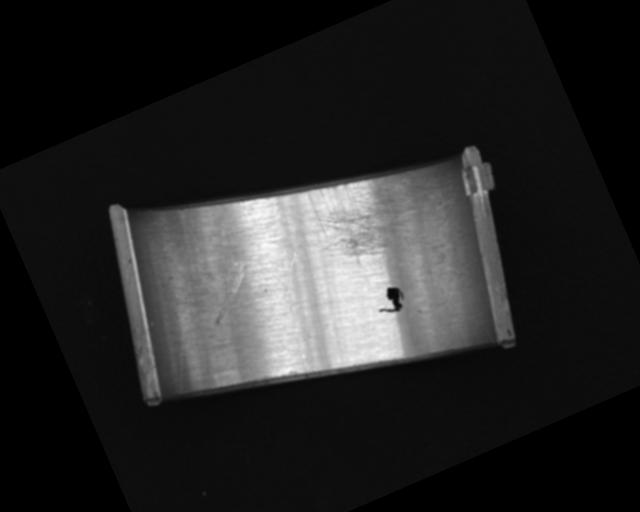blot: (371, 282, 409, 319)
nick: (257, 249, 344, 375), (146, 299, 221, 397), (198, 264, 262, 326), (214, 215, 251, 278)
scratch: (296, 148, 445, 277)
